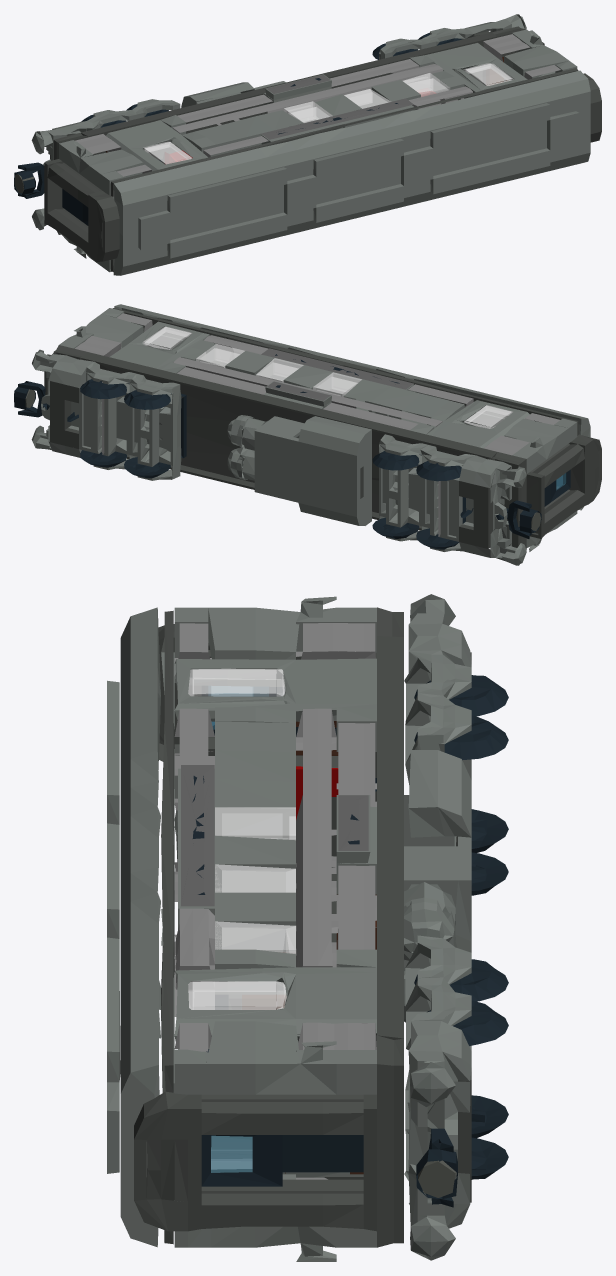
The model's file is mail-car.glb.
3 views of the same model, one above another, from view 1: azimuth 30°, elevation 25°; view 2: azimuth 150°, elevation 25°; view 3: azimuth 270°, elevation 25° (orthographic). The views are drawn at different scales.
Size of the model in its own units: 283 by 57.6 by 95.22.
